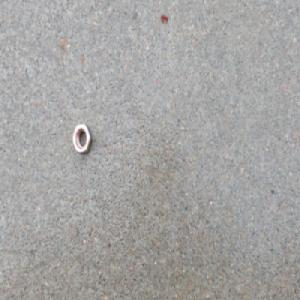Nut: (73, 122, 92, 155)
